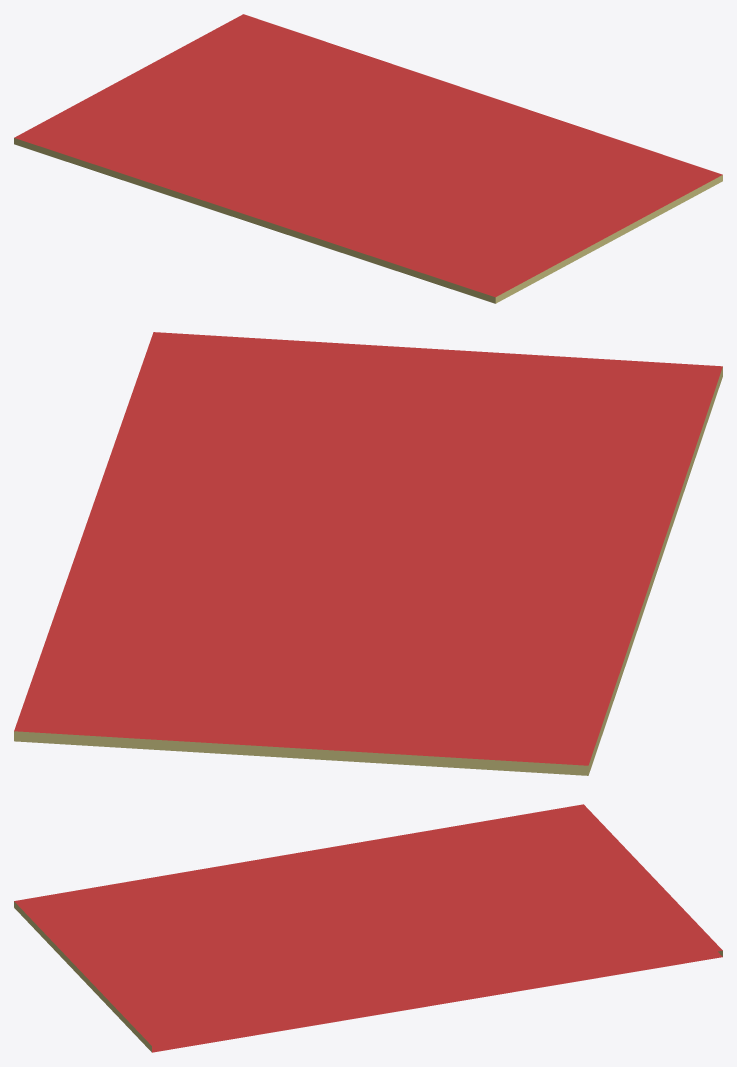
The picture shows the model from 3 angles, top to bottom: view 1: azimuth 30°, elevation 25°; view 2: azimuth 150°, elevation 25°; view 3: azimuth 270°, elevation 25°; orthographic projection. The views are drawn at different scales.
Size of the model in its own units: 7.95 by 9.85 by 0.1.
